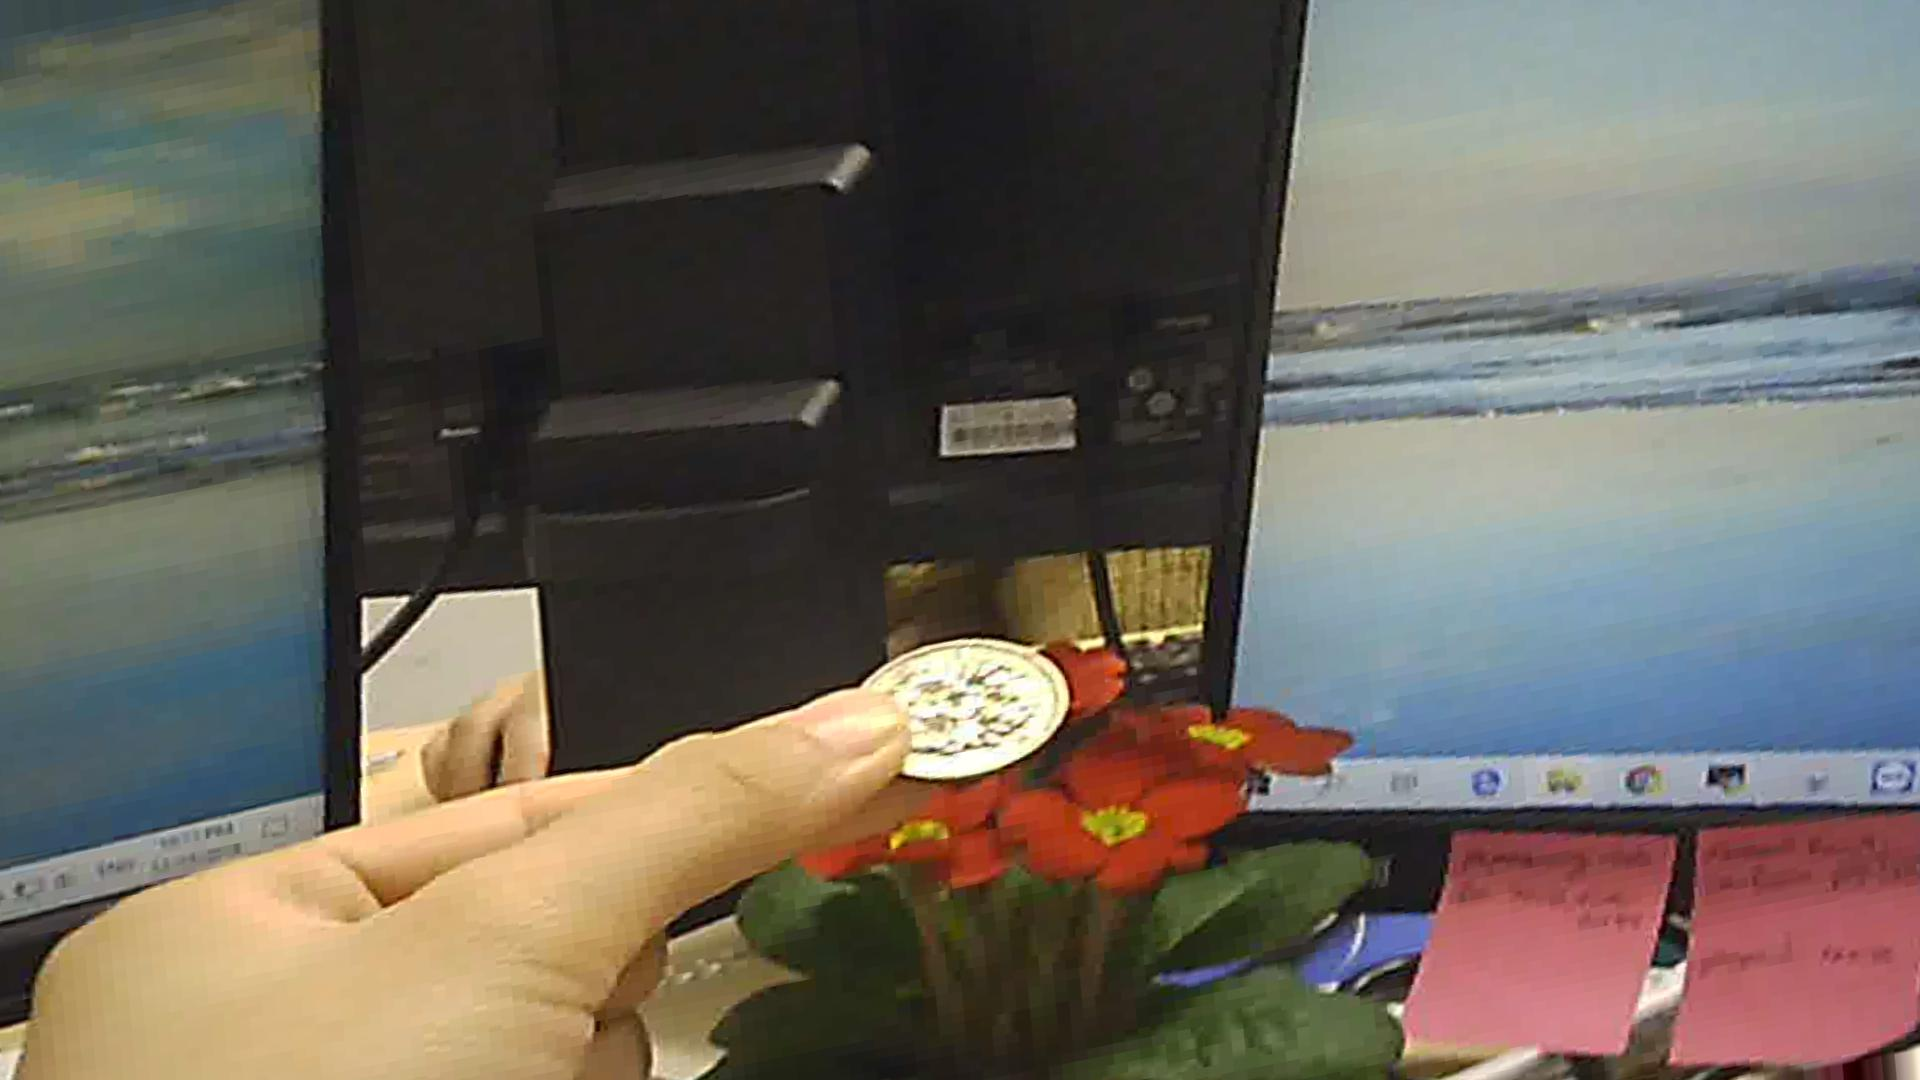100 Yen: (855, 626, 1072, 785)
